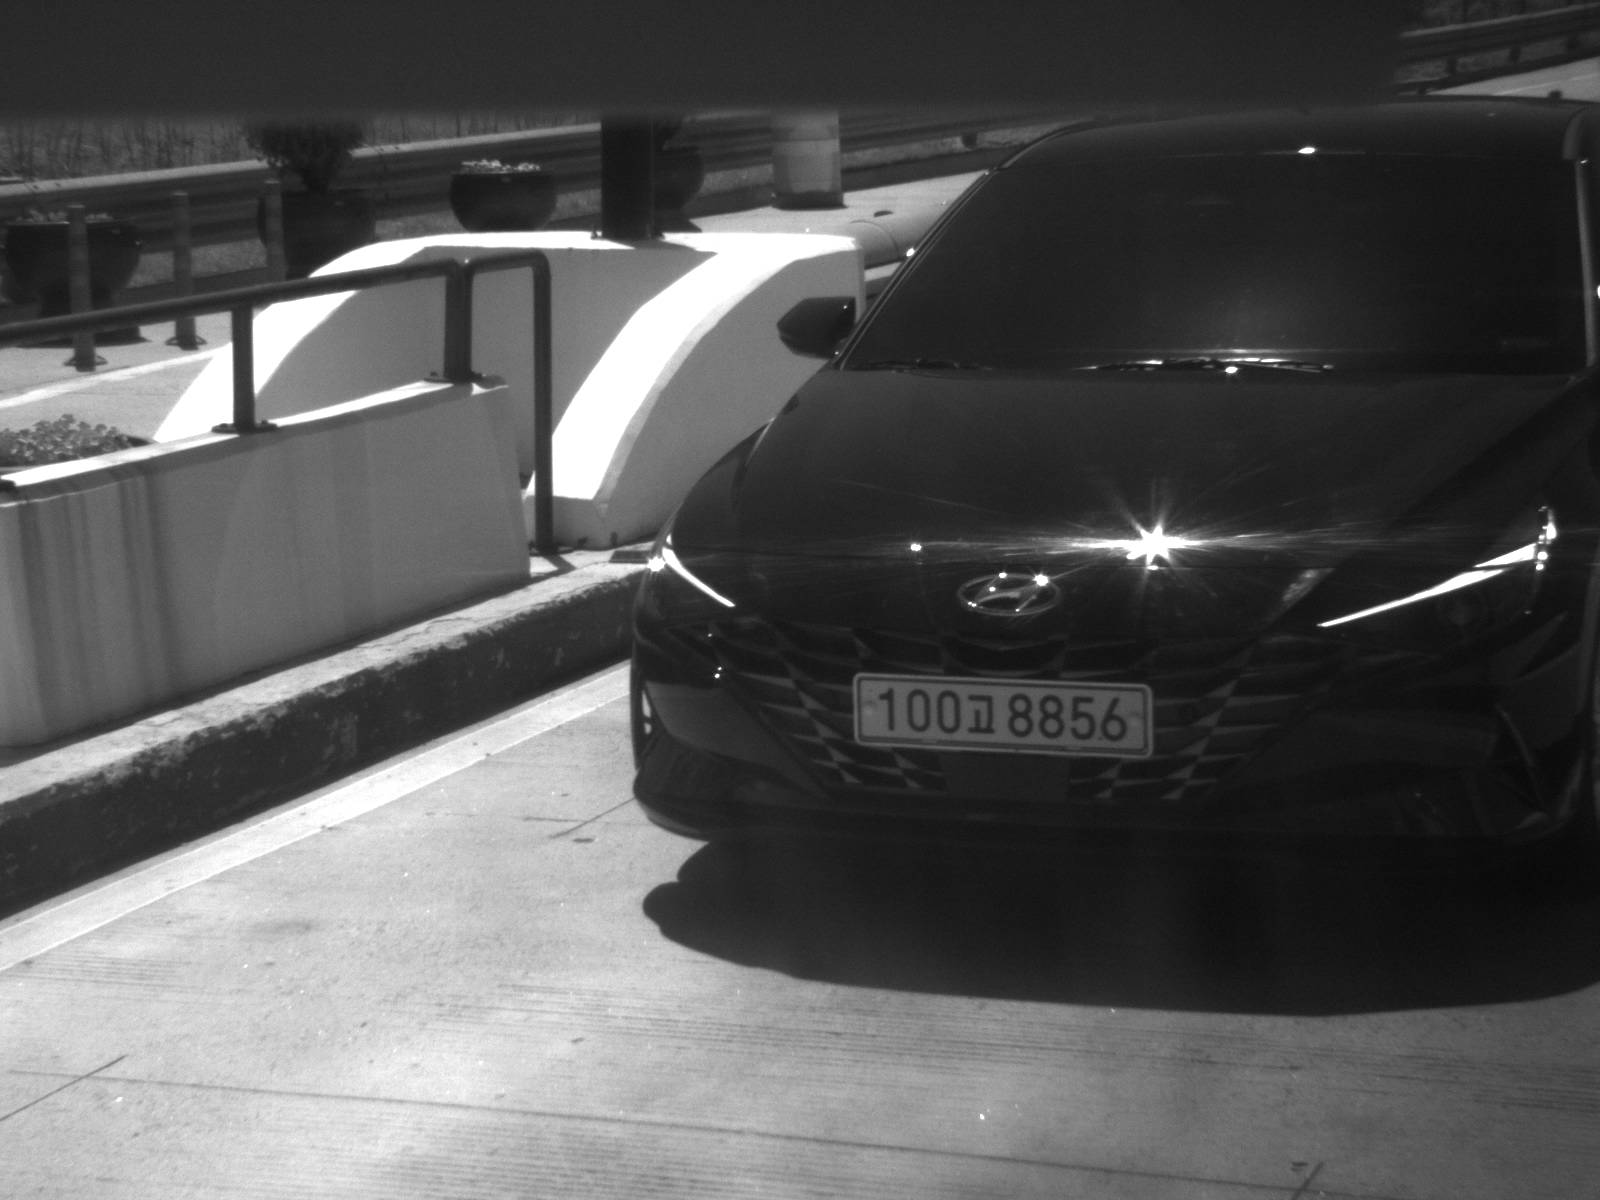car: (625, 92, 1600, 865)
plate: (849, 667, 1154, 755)
